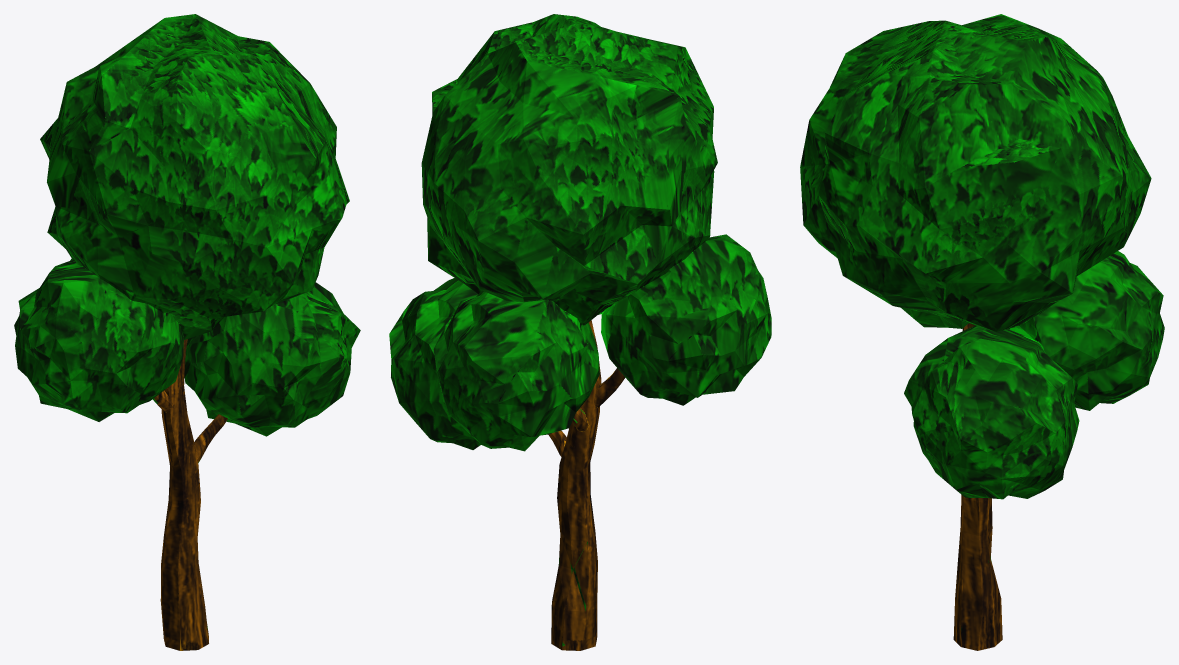
File: tree.obj
3 views of the same model, side by side, from view 1: azimuth 30°, elevation 25°; view 2: azimuth 150°, elevation 25°; view 3: azimuth 270°, elevation 25° (orthographic). The views are drawn at different scales.
Visible parts, largest first — view 1: Icosphere; view 2: Icosphere; view 3: Icosphere.
Boxes of the visible parts, <box> form: Icosphere: <box>14,14,360,650</box>; Icosphere: <box>389,14,771,650</box>; Icosphere: <box>800,14,1164,650</box>.
Size of the model in its own units: 3.94 by 6.72 by 3.61.
